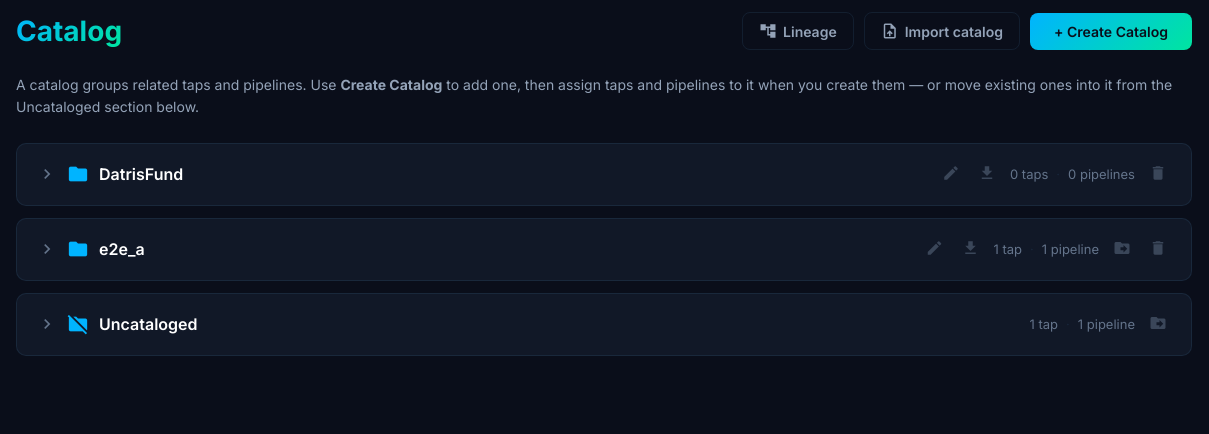
Test: DataCatalogComponent — catalog rename and delete › rename into a name differing from an existing catalog only by case is refused client-side
Check: the element with class "catalog-card" showing "e2e_a 1 tap · 1 pipeline" is shown, box 16,218 -> 1192,281
Click the button with class "rename-catalog-btn" in the row of "e2e_a": coordinates (935, 249) 922,235 -> 948,264
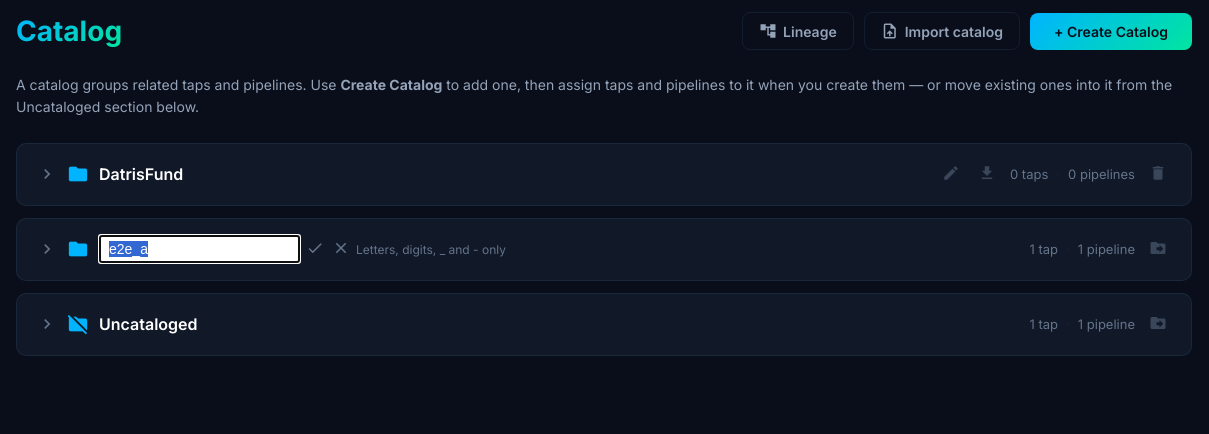
Check: the field with class "rename-catalog-input" is shown
Replace the text in the field with class "rename-catalog-input" with "datrisfund": coordinates (200, 249) 99,235 -> 300,263
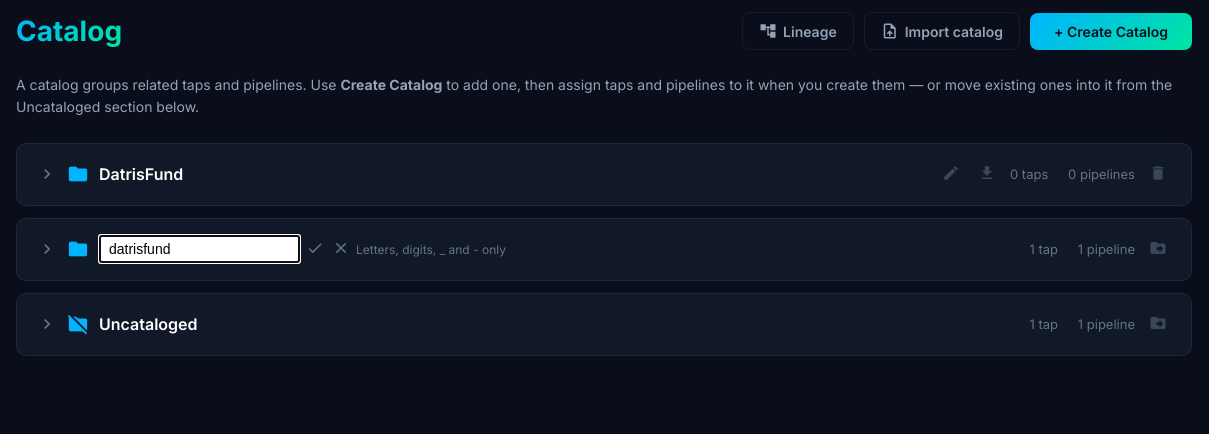
Press Enter in the field with class "rename-catalog-input", box 99,235 -> 300,263
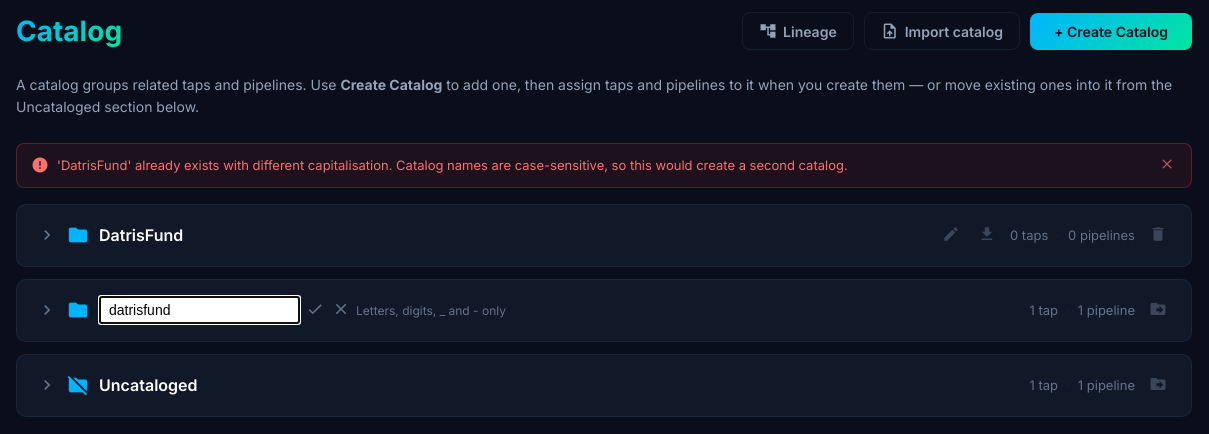
Check: the element with class "move-error-banner" shows "'DatrisFund' already exists with different capitalisation. Catalog names are case-sensitive, so this would create a second catalog.", box 57,157 -> 848,173
